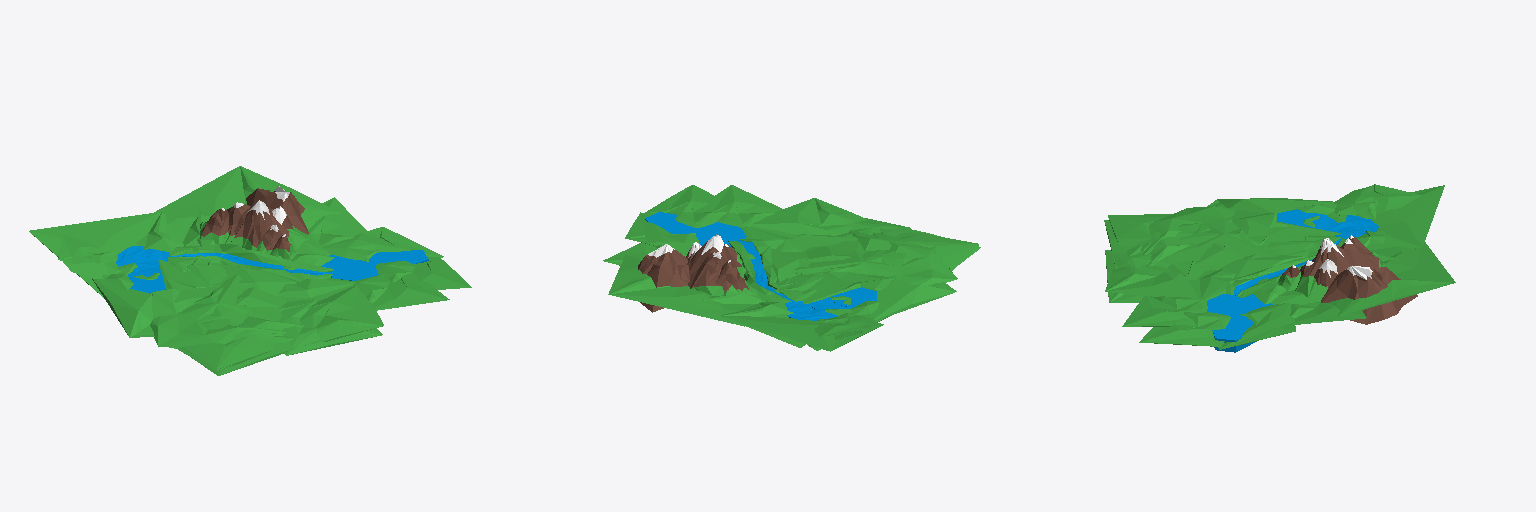
3 renders of one model, left to right at view 1: azimuth 30°, elevation 25°; view 2: azimuth 150°, elevation 25°; view 3: azimuth 270°, elevation 25°, orthographic.
Visible parts, largest first — view 1: group[number redacted], group[number redacted], group[number redacted], group[number redacted], group[number redacted], group[number redacted], group[number redacted], group[number redacted], group[number redacted], group[number redacted], group[number redacted], group[number redacted] (+14 smaller); view 2: group[number redacted], group[number redacted], group[number redacted], group[number redacted], group[number redacted], group[number redacted], group[number redacted], group[number redacted], group[number redacted], group[number redacted], group[number redacted], group[number redacted] (+10 smaller); view 3: group[number redacted], group[number redacted], group[number redacted], group[number redacted], group[number redacted], group[number redacted], group[number redacted], group[number redacted], group[number redacted], group[number redacted], group[number redacted], group[number redacted] (+11 smaller).
Boxes of the visible parts, x1,y1,x2,y2 form: group[number redacted]: [29, 212, 183, 297]; group[number redacted]: [150, 274, 285, 347]; group[number redacted]: [154, 166, 339, 229]; group[number redacted]: [300, 285, 383, 341]; group[number redacted]: [197, 200, 308, 250]; group[number redacted]: [92, 278, 245, 337]; group[number redacted]: [169, 244, 333, 281]; group[number redacted]: [353, 271, 449, 310]; group[number redacted]: [322, 227, 443, 261]; group[number redacted]: [182, 333, 283, 369]; group[number redacted]: [149, 259, 219, 312]; group[number redacted]: [277, 299, 382, 355]; group[number redacted]: [791, 232, 957, 285]; group[number redacted]: [608, 255, 744, 326]; group[number redacted]: [751, 198, 866, 239]; group[number redacted]: [687, 234, 757, 295]; group[number redacted]: [720, 302, 883, 351]; group[number redacted]: [823, 250, 956, 320]; group[number redacted]: [692, 185, 782, 227]; group[number redacted]: [728, 240, 793, 303]; group[number redacted]: [638, 244, 689, 312]; group[number redacted]: [645, 185, 726, 227]; group[number redacted]: [803, 271, 894, 303]; group[number redacted]: [645, 212, 746, 247]; group[number redacted]: [1328, 242, 1455, 316]; group[number redacted]: [1356, 185, 1444, 249]; group[number redacted]: [1142, 206, 1277, 260]; group[number redacted]: [1321, 266, 1417, 324]; group[number redacted]: [1105, 265, 1200, 297]; group[number redacted]: [1295, 235, 1381, 299]; group[number redacted]: [1179, 198, 1333, 245]; group[number redacted]: [1122, 296, 1207, 326]; group[number redacted]: [1139, 312, 1230, 346]; group[number redacted]: [1207, 294, 1272, 352]; group[number redacted]: [1143, 223, 1243, 269]; group[number redacted]: [1232, 213, 1340, 245].
Bounding box in the file's own units: 9.86 × 1.86 × 9.51.